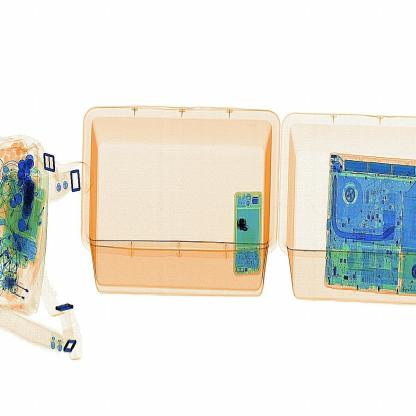scissors: (230, 212, 252, 247)
